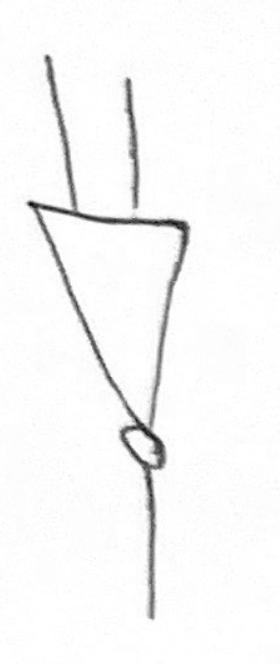NOT: (18, 181, 232, 506)
